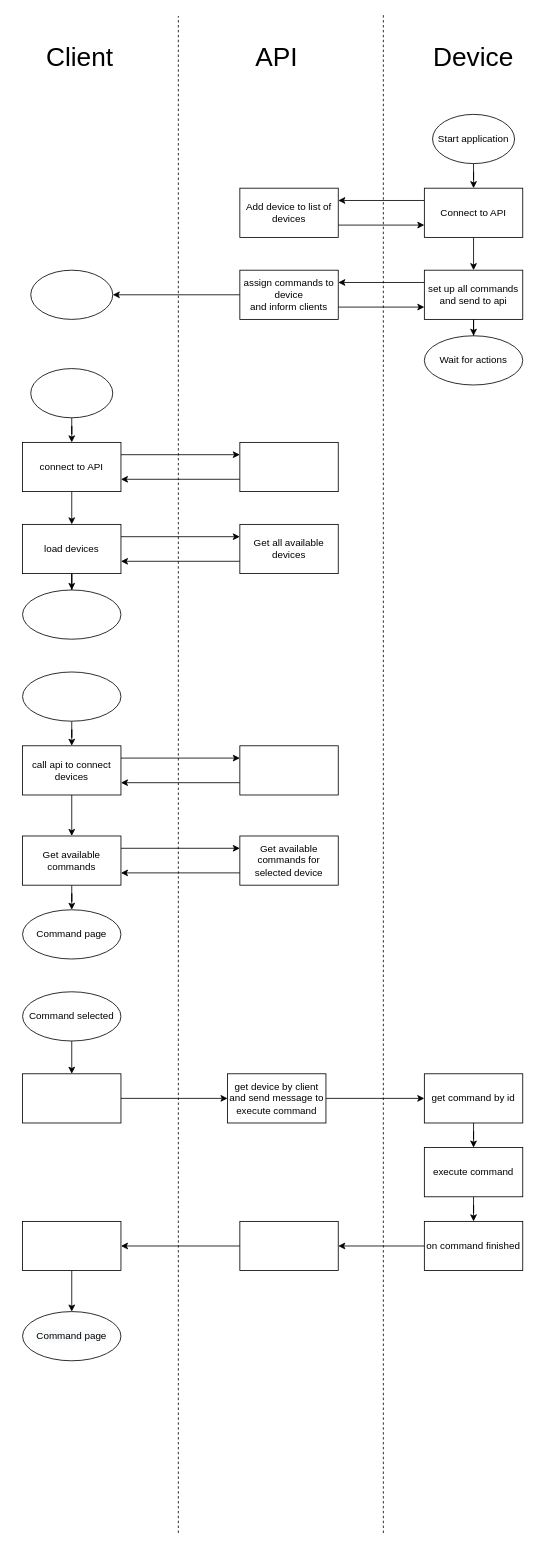
This 553x1548 diagram has some shape labels left out. Here are the shapes that lost their labels. From the top down, the centre of each, then its label:
the point at 71,294: Load commands
the point at 71,393: Start client
the point at 288,467: add client to list of clients
the point at 71,614: Select device page
the point at 71,696: Device selected
the point at 288,770: Set client device to selected device
the point at 71,1098: call api to execute command
the point at 71,1246: on command exeucted reload data
the point at 288,1246: inform all clients that command executed
